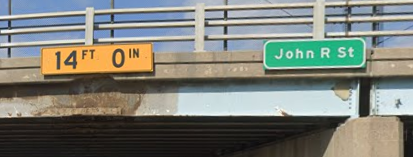0: (108, 46, 128, 70)
1: (50, 49, 62, 72)
4: (61, 49, 80, 72)
overheadsign: (39, 42, 154, 75)
